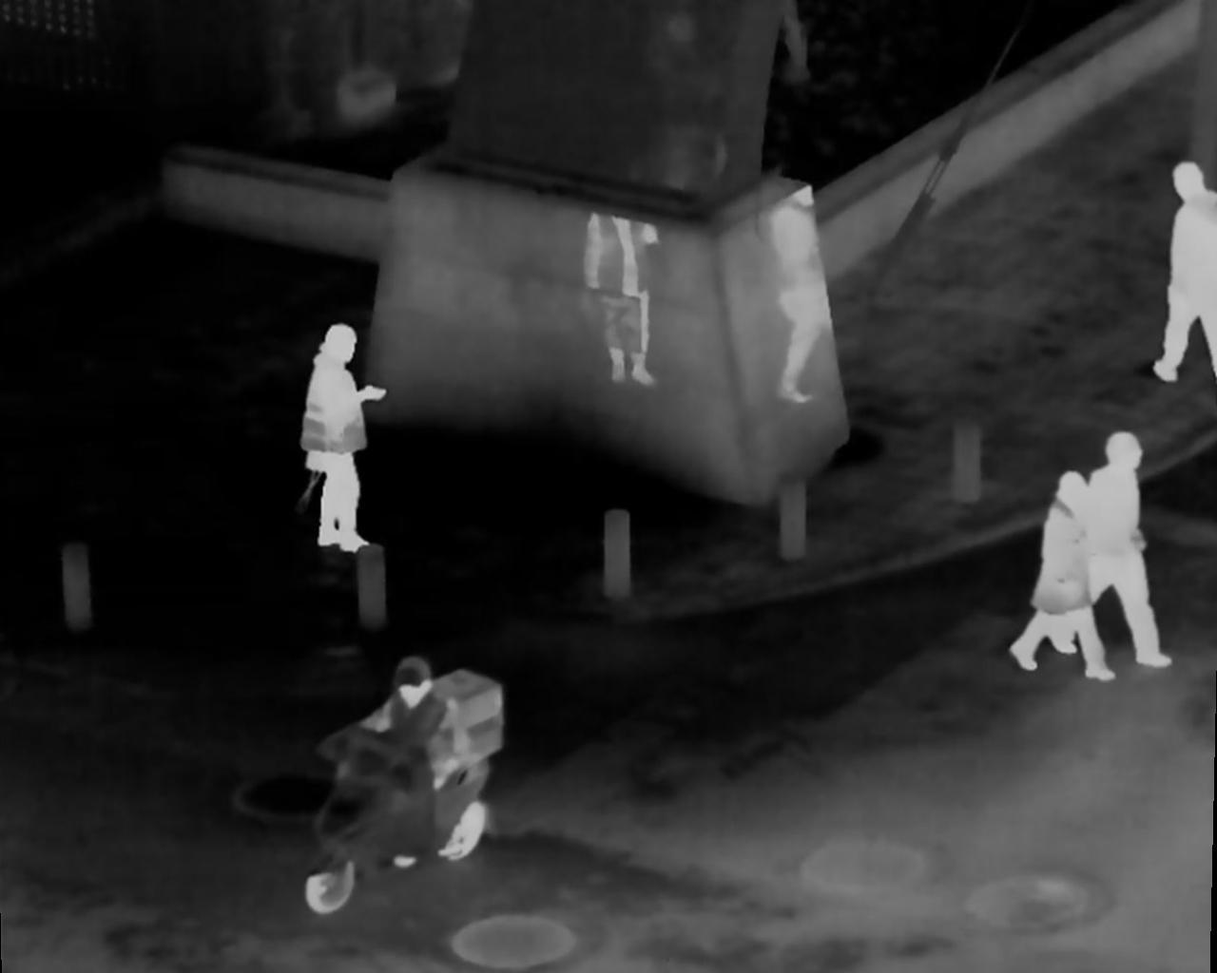person: (297, 315, 385, 555), (358, 662, 463, 862), (1021, 471, 1113, 680), (1091, 435, 1167, 669), (1146, 165, 1217, 389)
